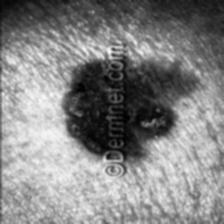Potentially Malignant Skin Tumors: (60, 48, 106, 160)
